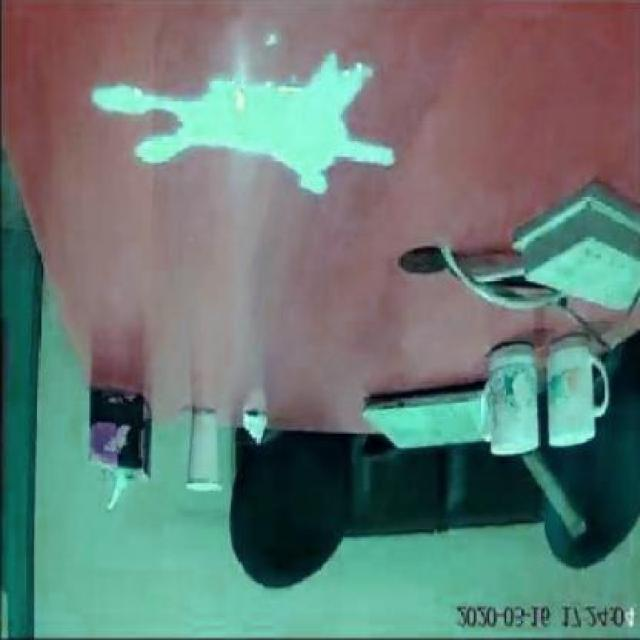spillage: (94, 52, 396, 194)
